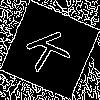K: (25, 25, 80, 73)
